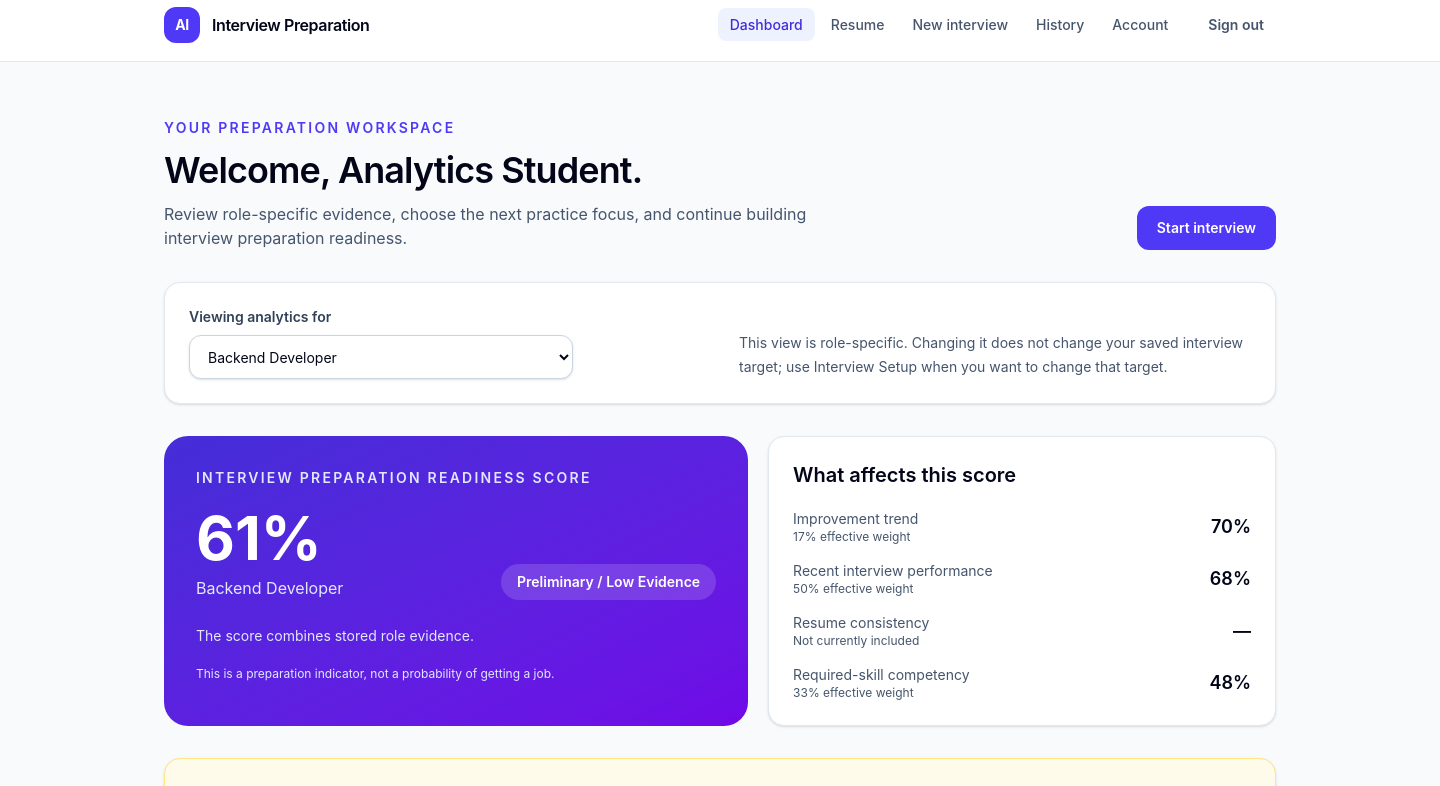
Test case: Phase 4 dashboard and history › changes only the dashboard role view and explains that the saved target is unchanged
Expected: the text "61%" is shown, [196,508,343,568]
Select "Frontend Developer" in the dropdown labelled "Viewing analytics for" at (381, 357), box [189,335,573,379]
(page scrolled)
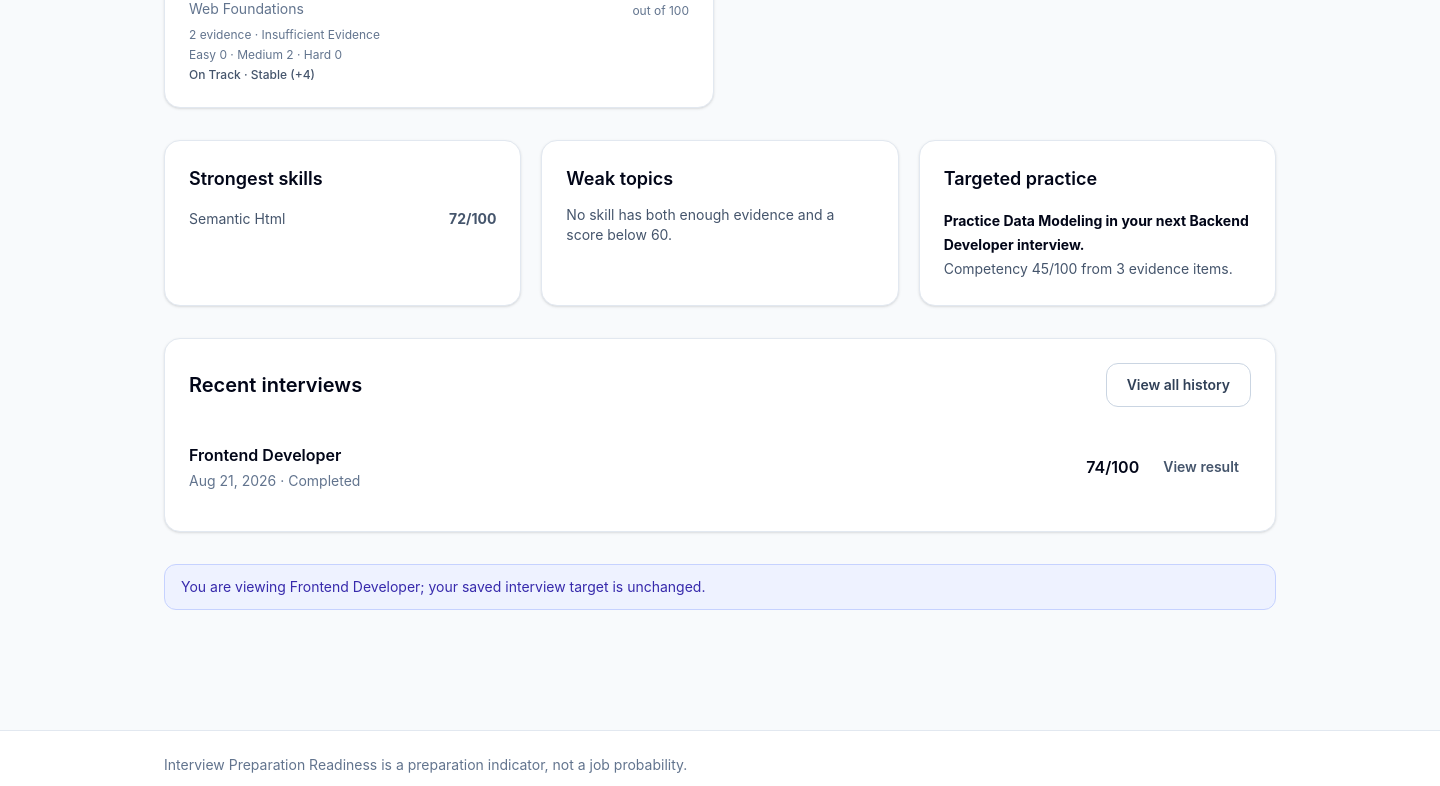
Expected: the text "You are viewing Frontend Developer; your saved interview target is unchanged." is shown, [164,564,1276,610]
